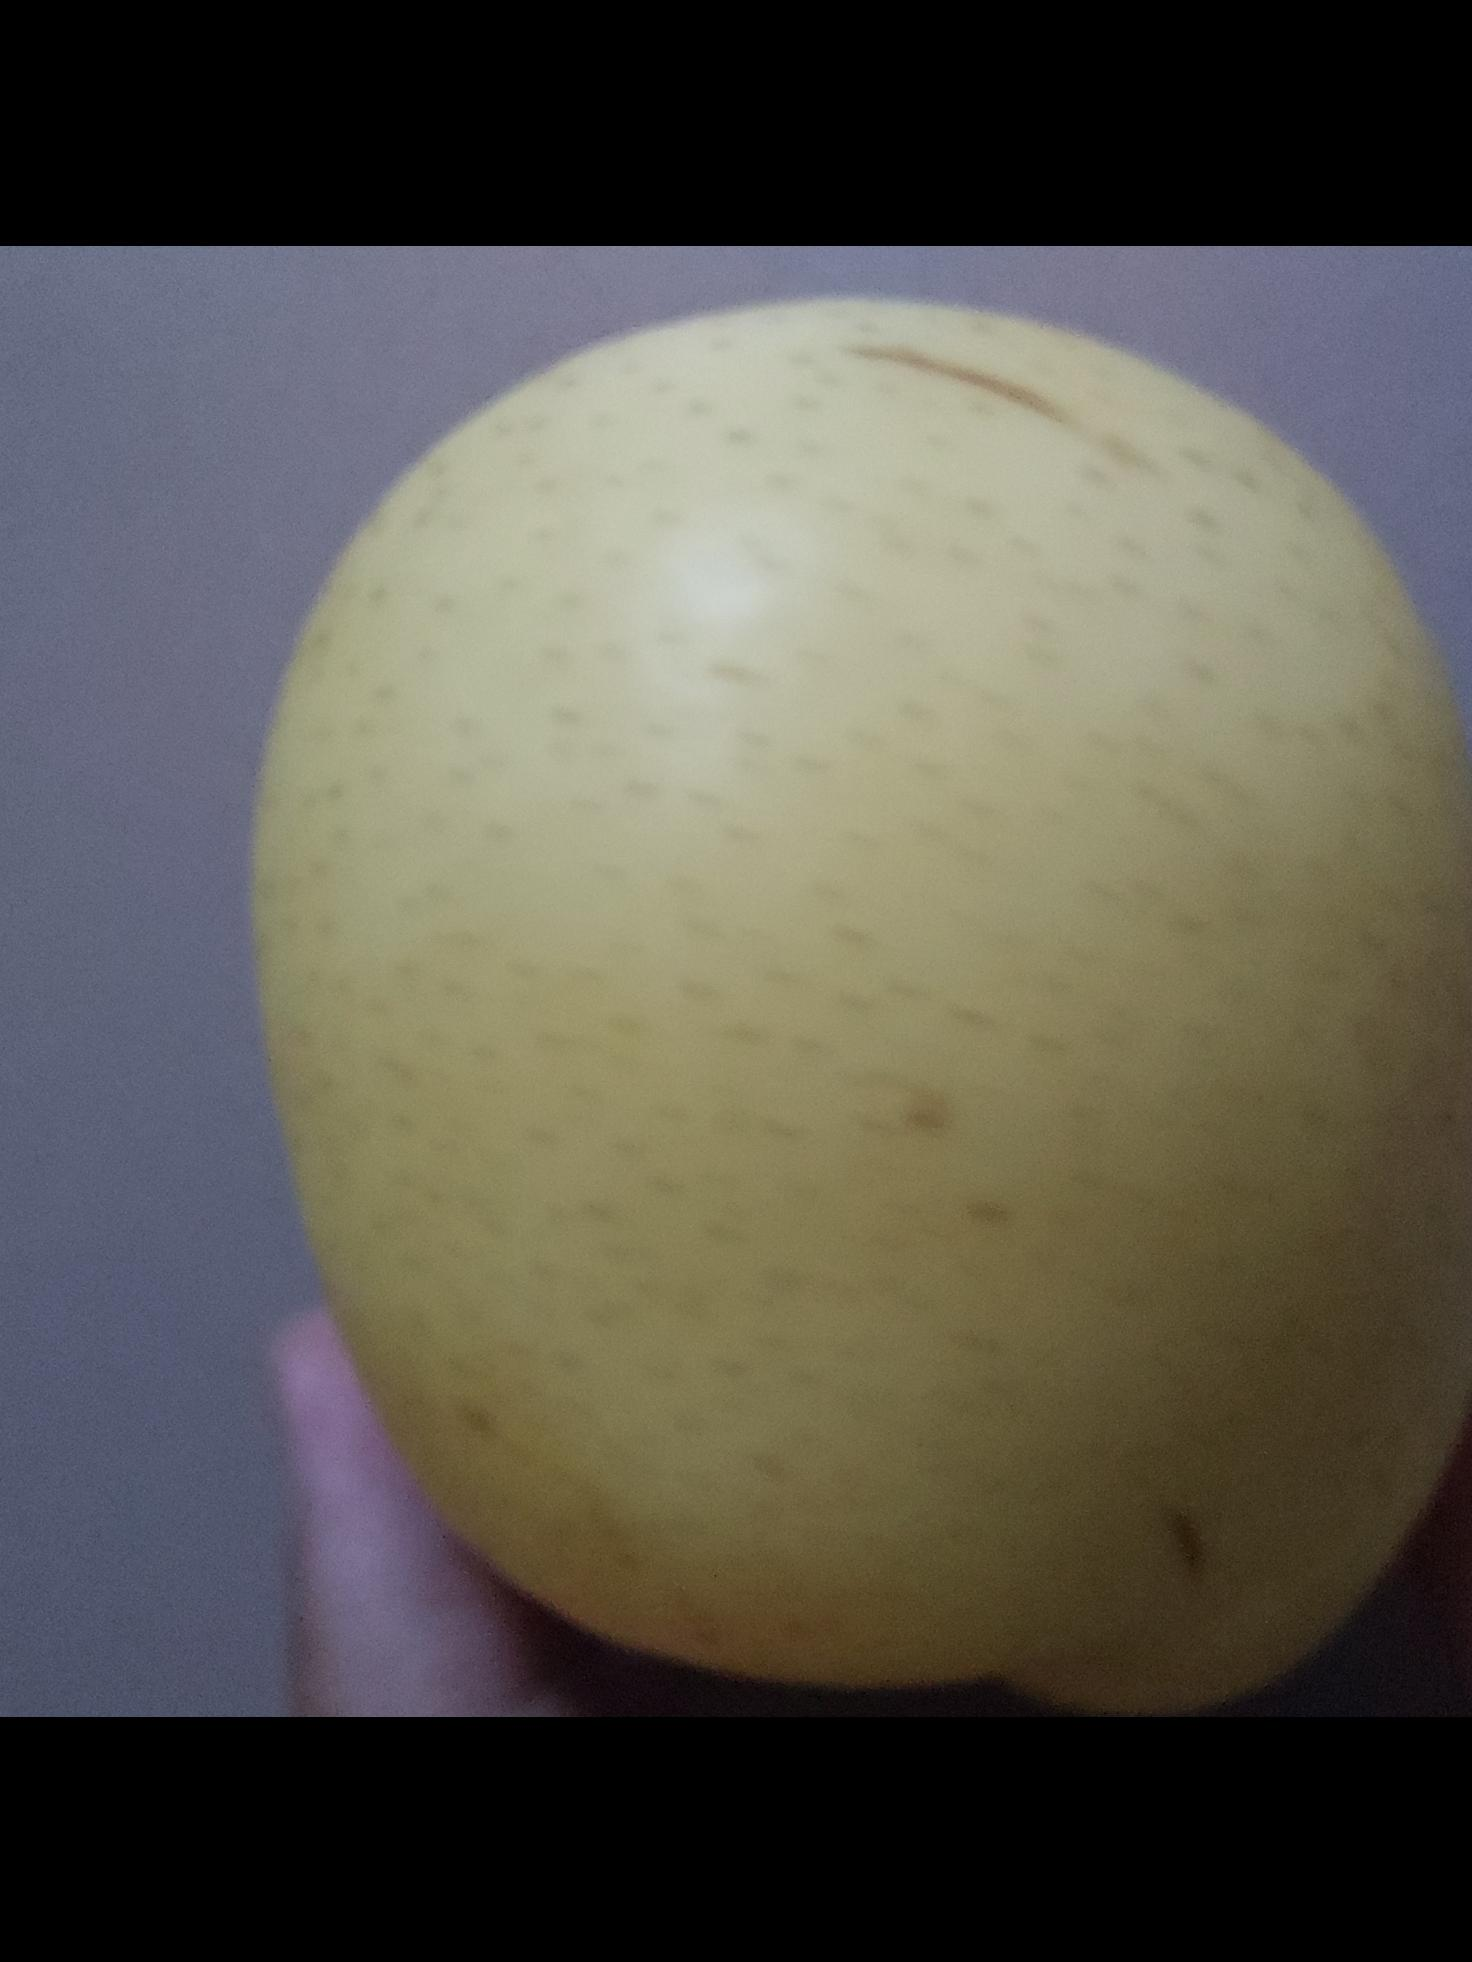Good Pear: (411, 305, 1458, 1483)
